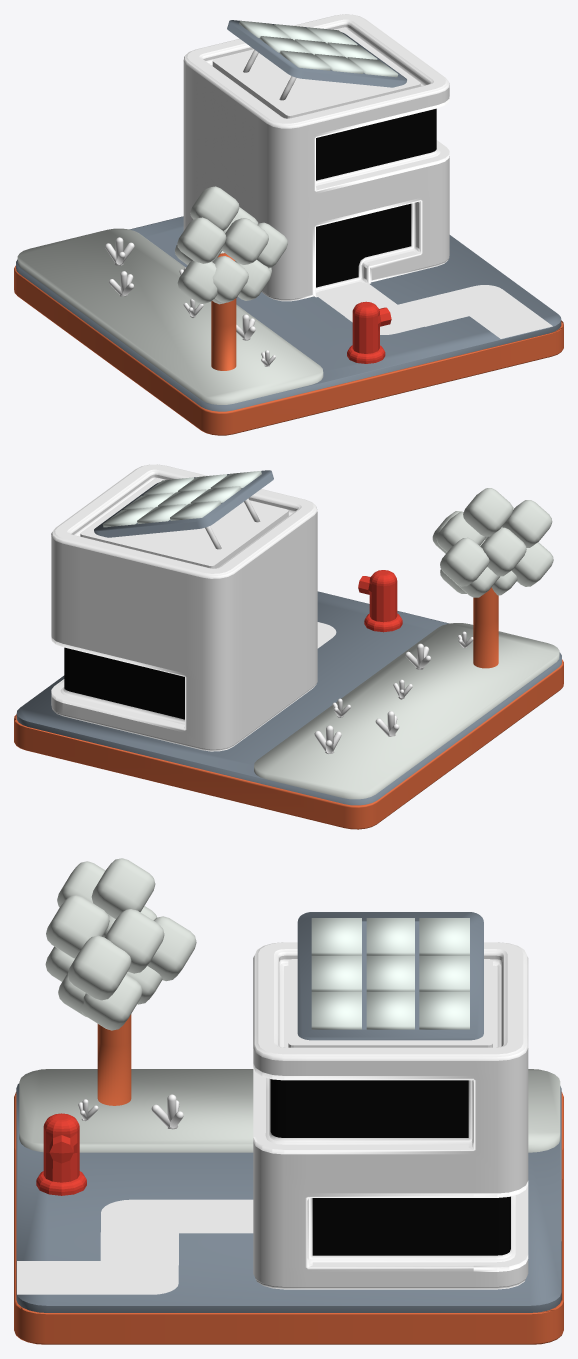
Rendered from snow.gltf.
3 views of the same model, one above another, from view 1: azimuth 30°, elevation 25°; view 2: azimuth 150°, elevation 25°; view 3: azimuth 270°, elevation 25° (orthographic). The views are drawn at different scales.
Visible parts, largest first — view 1: Plane, Plane.002, Plane.001, Plane.003, Cube, Plane.006, Plane.005, Plane.004, Plane.009, Circle, Circle.004, Plane.012 (+2 smaller); view 2: Plane, Plane.002, Plane.001, Plane.003, Cube, Plane.006, Plane.005, Plane.004, Circle, Circle.004; view 3: Plane, Plane.001, Plane.002, Plane.003, Plane.005, Cube, Plane.004, Plane.009, Plane.006, Circle, Plane.012, Circle.004 (+3 smaller).
Boxes of the visible parts, x1=… form: Plane: x1=183, y1=14, x2=449, y2=301; Plane.002: x1=17, y1=228, x2=323, y2=404; Plane.001: x1=16, y1=216, x2=561, y2=411; Plane.003: x1=14, y1=265, x2=563, y2=435; Cube: x1=175, y1=186, x2=287, y2=304; Plane.006: x1=212, y1=28, x2=420, y2=118; Plane.005: x1=239, y1=20, x2=398, y2=77; Plane.004: x1=227, y1=20, x2=406, y2=87; Plane.009: x1=316, y1=283, x2=426, y2=334; Circle: x1=347, y1=301, x2=391, y2=363; Circle.004: x1=211, y1=253, x2=236, y2=370; Plane.012: x1=468, y1=302, x2=552, y2=338; Plane: x1=51, y1=464, x2=317, y2=751; Plane.002: x1=254, y1=623, x2=559, y2=799; Plane.001: x1=16, y1=591, x2=561, y2=805; Plane.003: x1=14, y1=659, x2=563, y2=829; Cube: x1=432, y1=488, x2=553, y2=597; Plane.006: x1=80, y1=478, x2=288, y2=568; Plane.005: x1=102, y1=471, x2=261, y2=527; Plane.004: x1=94, y1=470, x2=273, y2=537; Circle: x1=358, y1=570, x2=402, y2=632; Circle.004: x1=473, y1=587, x2=498, y2=668; Plane: x1=253, y1=942, x2=528, y2=1289; Plane.001: x1=16, y1=1083, x2=561, y2=1312; Plane.002: x1=19, y1=1069, x2=560, y2=1152; Plane.003: x1=14, y1=1092, x2=563, y2=1344; Plane.005: x1=311, y1=918, x2=469, y2=1029; Cube: x1=45, y1=858, x2=196, y2=1030; Plane.004: x1=297, y1=912, x2=483, y2=1040; Plane.009: x1=101, y1=1199, x2=253, y2=1233; Plane.006: x1=288, y1=959, x2=492, y2=1047; Circle: x1=36, y1=1113, x2=86, y2=1195; Plane.012: x1=17, y1=1261, x2=103, y2=1294; Circle.004: x1=97, y1=1014, x2=131, y2=1105.
Bounding box in the file's own units: 7.98 × 5.12 × 7.88.
